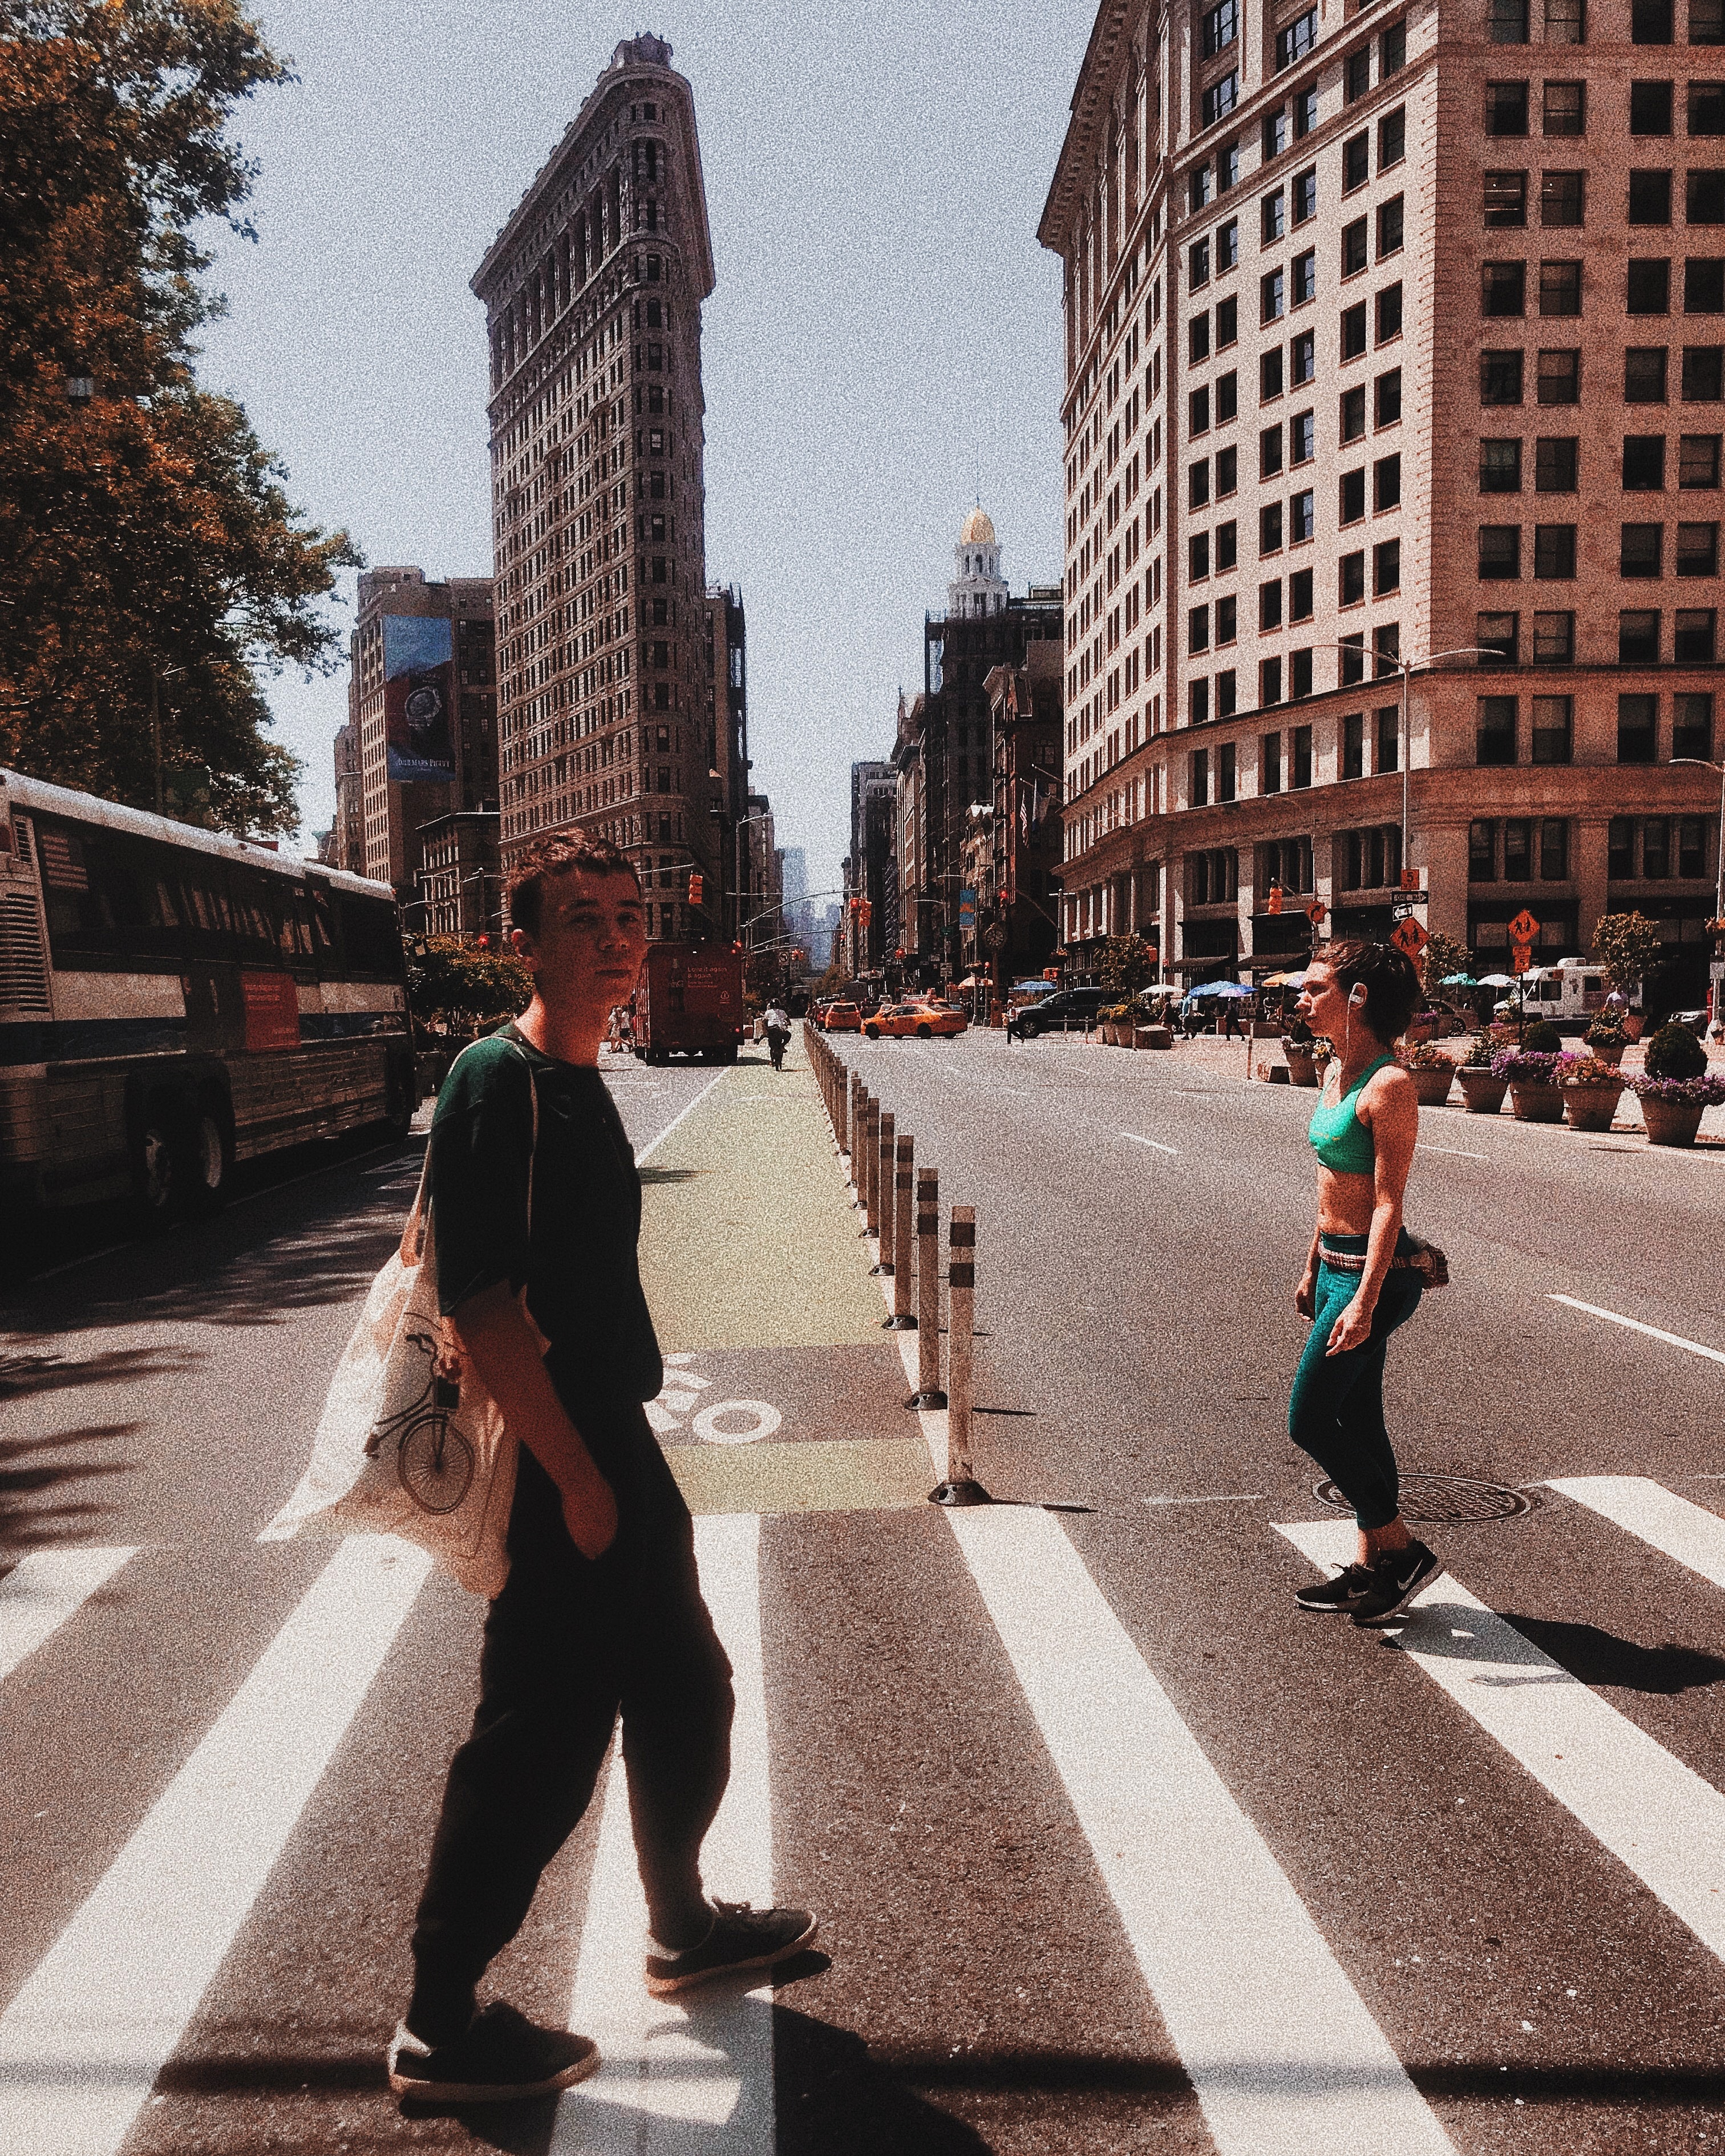person: (391, 827, 829, 2118), (1247, 955, 1475, 1642)
